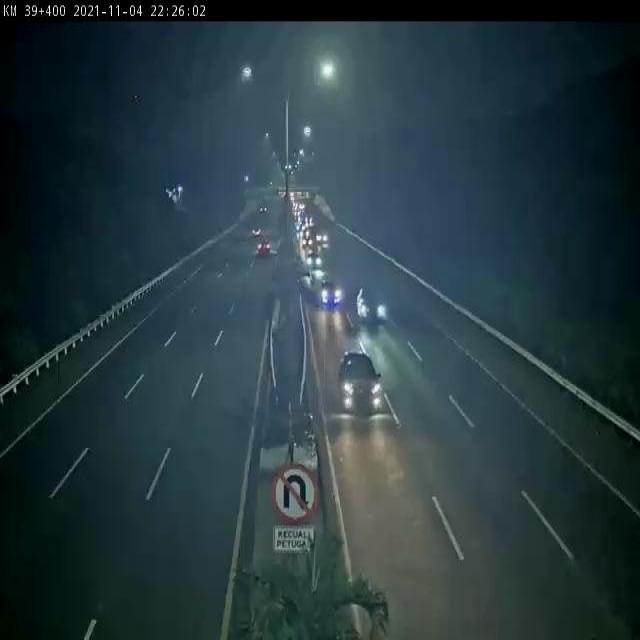Car: (337, 350, 383, 414), (356, 286, 388, 322), (319, 279, 344, 308), (256, 240, 272, 258), (305, 252, 321, 268), (302, 236, 312, 247), (252, 229, 261, 236)
